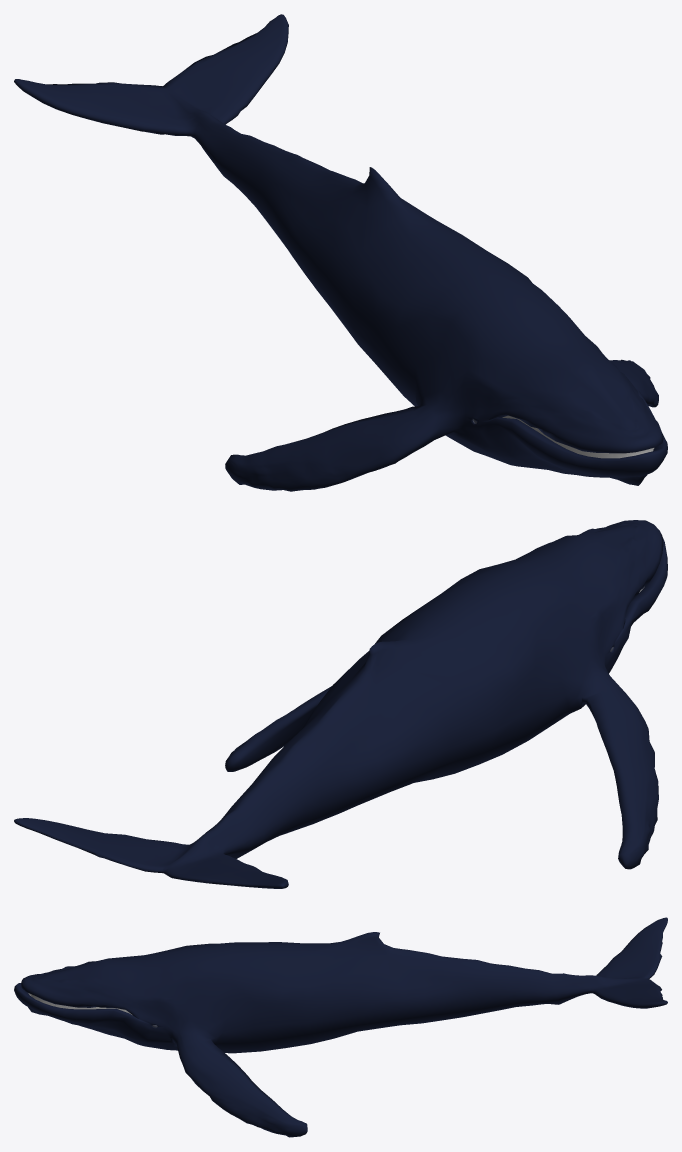
File: whale_animation03.obj
The picture shows the model from 3 angles, top to bottom: view 1: azimuth 30°, elevation 25°; view 2: azimuth 150°, elevation 25°; view 3: azimuth 270°, elevation 25°; orthographic projection. The views are drawn at different scales.
Visible parts, largest first — view 1: Whale; view 2: Whale; view 3: Whale.
Boxes of the visible parts, box(x1,y1,x2,y2) form: Whale: box(14, 14, 667, 491); Whale: box(14, 520, 667, 888); Whale: box(14, 917, 667, 1137).
Size of the model in its own units: 8.88 by 4.56 by 19.
